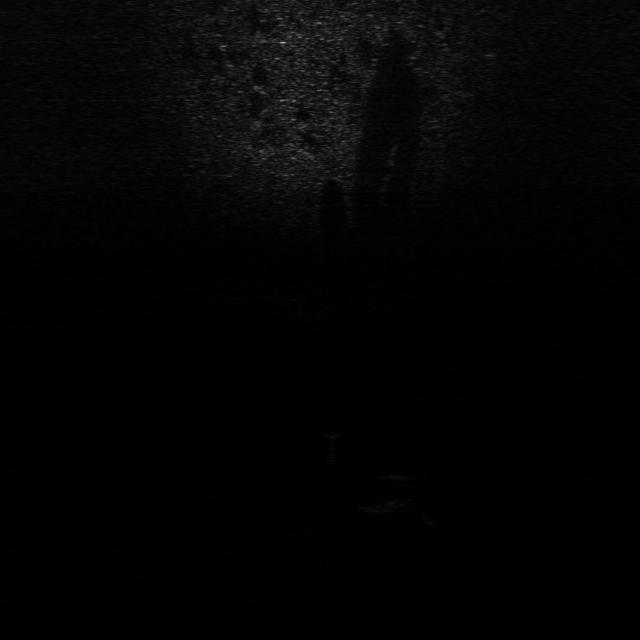ball: (316, 415, 350, 438)
tyre: (354, 466, 424, 515)
